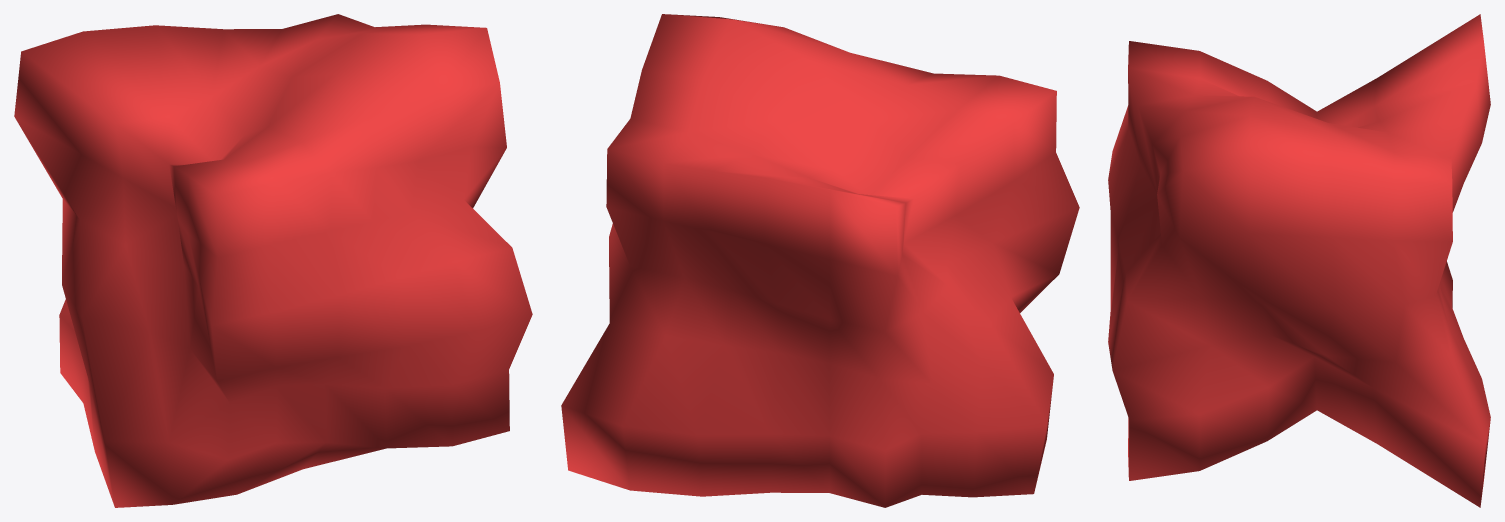
File: ALERT_ACTIVE.glb
3 views of the same model, side by side, from view 1: azimuth 30°, elevation 25°; view 2: azimuth 150°, elevation 25°; view 3: azimuth 270°, elevation 25° (orthographic).
Visible parts, largest first — view 1: ArcShape; view 2: ArcShape; view 3: ArcShape.
Boxes of the visible parts, left/top/right/bottom form: ArcShape: left=14, top=14, right=532, bottom=507; ArcShape: left=561, top=14, right=1079, bottom=507; ArcShape: left=1108, top=14, right=1490, bottom=507.
Bounding box in the file's own units: 2.22 × 2.2 × 1.89.
